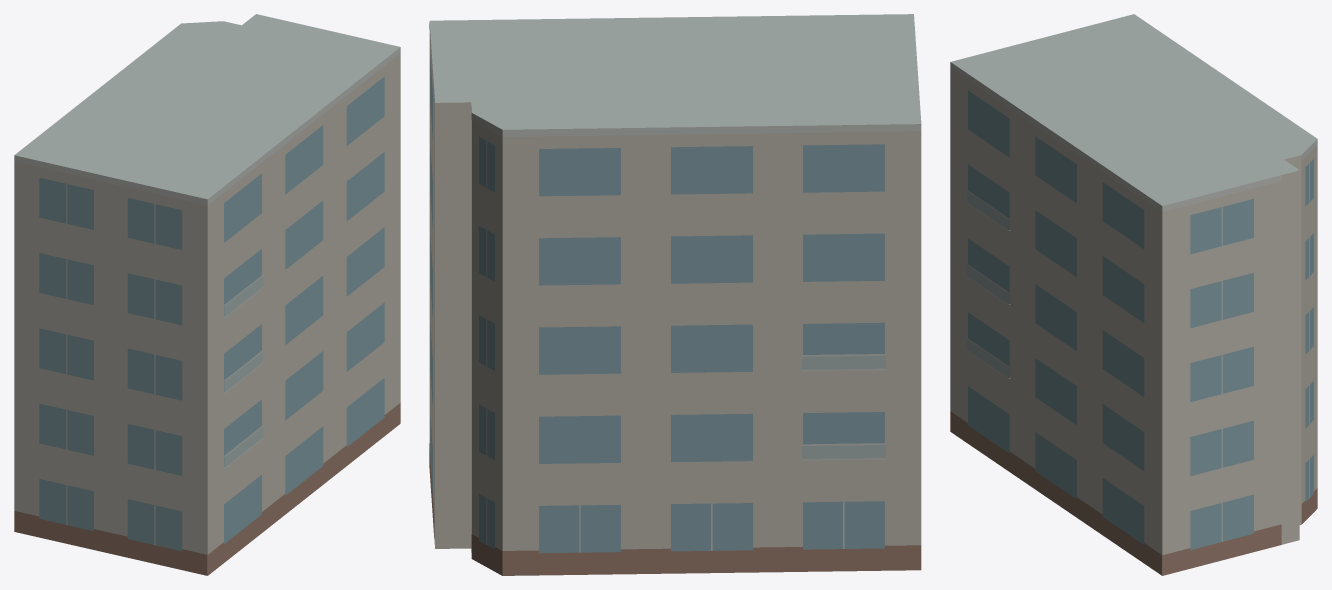
File: survey-upis-32871735.glb
The picture shows the model from 3 angles, left to right: view 1: azimuth 30°, elevation 25°; view 2: azimuth 150°, elevation 25°; view 3: azimuth 270°, elevation 25°; orthographic projection. The views are drawn at different scales.
Visible parts, largest first — view 1: survey-upis-32871735.tmp; view 2: survey-upis-32871735.tmp; view 3: survey-upis-32871735.tmp.
Boxes of the visible parts, x1,y1,x2,y2 form: survey-upis-32871735.tmp: (14,14,400,575); survey-upis-32871735.tmp: (429,14,921,575); survey-upis-32871735.tmp: (950,14,1317,575).
Size of the model in its own units: 16.72 by 15 by 13.51.
